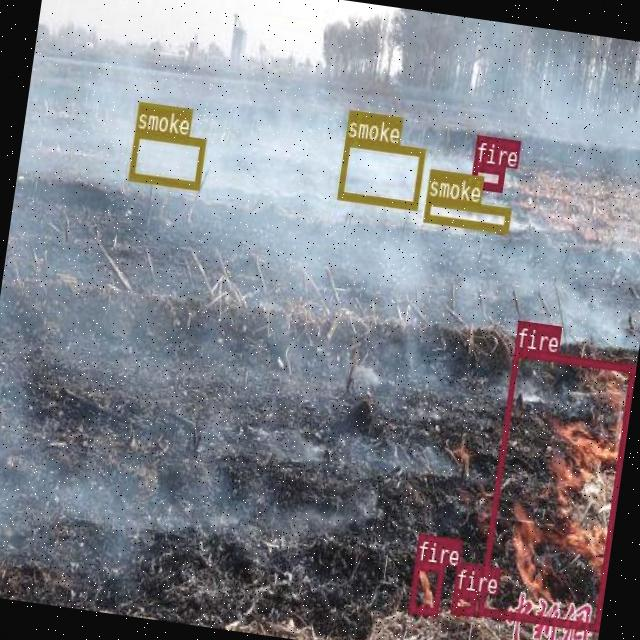fire: (477, 348, 635, 630), (408, 561, 444, 614), (471, 162, 504, 190), (450, 589, 476, 614)
smoke: (336, 136, 424, 209), (128, 128, 205, 188), (423, 195, 511, 232)
